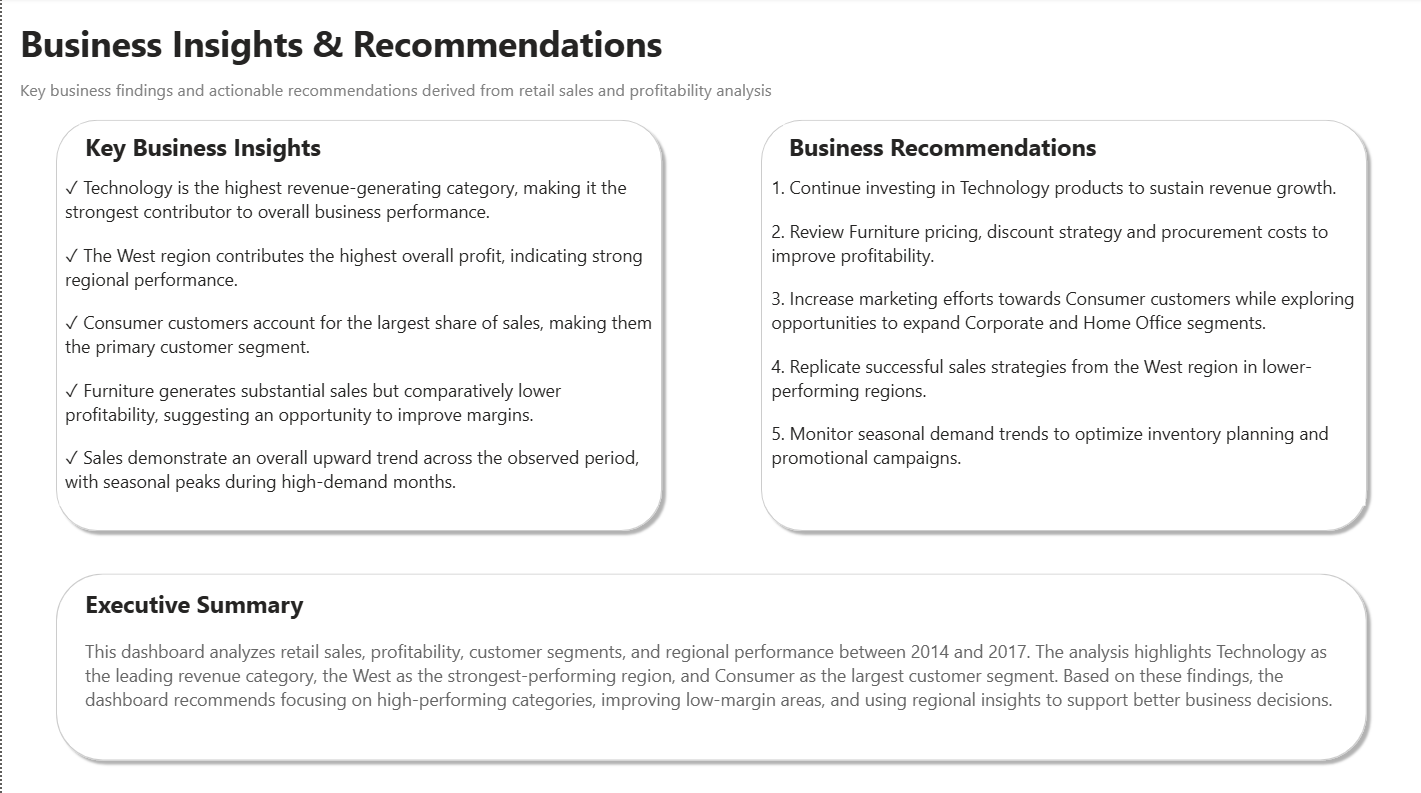

This screenshot's page, from the dashboard's own definition file:
{"tool":"powerbi","page":{"name":"Business Insights & Recommendations","canvas":[1280,720],"ordinal":2},"visuals":[{"type":"textbox","box":[11.6,15.1,612.8,53.5],"z":0},{"type":"textbox","box":[11.6,68.6,753.5,34.9],"z":1},{"type":"shape","box":[41.9,103.5,560.5,384.9],"z":2},{"type":"textbox","box":[69.8,115.1,252.3,40.7],"z":3},{"type":"shape","box":[677.9,103.5,560.5,384.9],"z":4},{"type":"textbox","box":[704.7,115.1,294.2,40.7],"z":5},{"type":"textbox","box":[52.3,155.8,539.5,303.5],"z":6},{"type":"textbox","box":[688.4,155.8,540.7,303.5],"z":7},{"type":"shape","box":[41.7,512.8,1195.9,182.6],"z":9},{"type":"textbox","box":[69.9,527.5,1137.3,152.2],"z":10}]}

Visuals, with their boxes in screenshot pixels (x1, y1, x2, y2), scaled from the page's 1280x720 canvas onto the 1421x793 screenshot:
textbox: rect(13, 17, 693, 76)
textbox: rect(13, 76, 849, 114)
shape: rect(47, 114, 669, 538)
textbox: rect(77, 127, 358, 172)
shape: rect(753, 114, 1375, 538)
textbox: rect(782, 127, 1109, 172)
textbox: rect(58, 172, 657, 506)
textbox: rect(764, 172, 1364, 506)
shape: rect(46, 565, 1374, 766)
textbox: rect(78, 581, 1340, 749)
